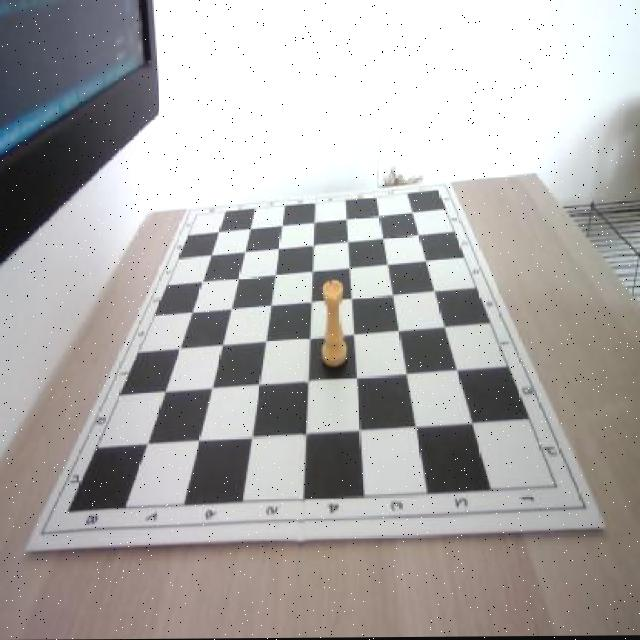white-queen: (320, 279, 348, 371)
